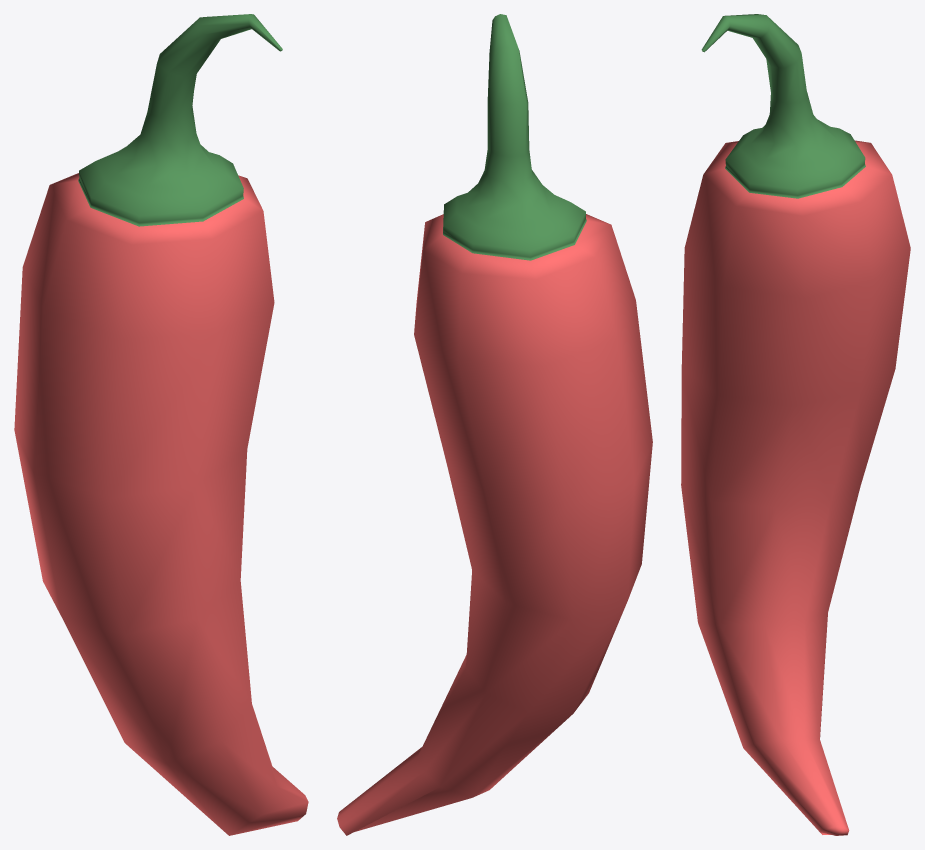
The model's file is Chili.fbx.
The picture shows the model from 3 angles, left to right: view 1: azimuth 30°, elevation 25°; view 2: azimuth 150°, elevation 25°; view 3: azimuth 270°, elevation 25°; orthographic projection. The views are drawn at different scales.
Parts seen in each view (by area): view 1: Chili; view 2: Chili; view 3: Chili.
Part boxes in pixels (x1=…): Chili: x1=14, y1=14, x2=308, y2=835; Chili: x1=337, y1=14, x2=652, y2=835; Chili: x1=681, y1=14, x2=910, y2=835.
Size of the model in its own units: 299 by 838 by 225.
